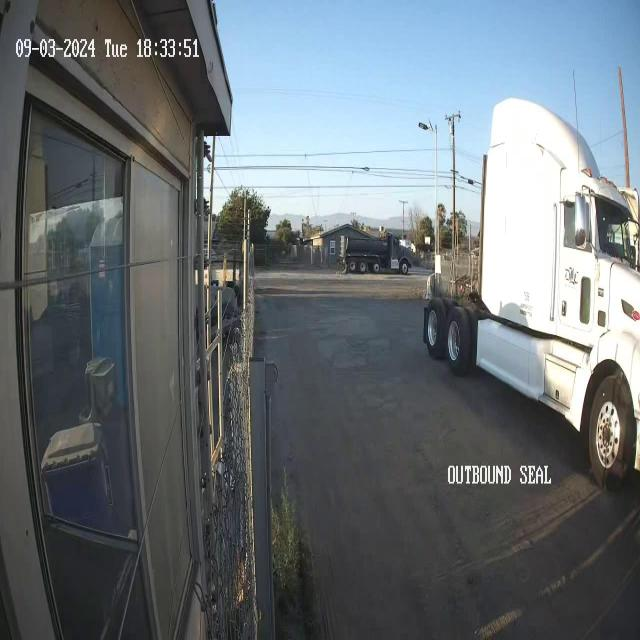BOBTAIL: (422, 96, 639, 491)
